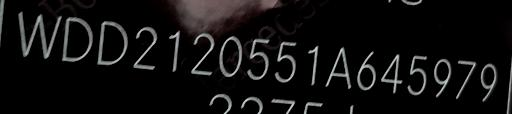letter: (15, 10, 63, 62), (126, 21, 170, 77), (59, 13, 95, 67), (187, 29, 223, 81), (320, 42, 358, 89), (352, 45, 388, 93), (242, 32, 276, 82), (98, 15, 130, 67), (270, 36, 304, 84), (376, 51, 408, 99), (450, 55, 482, 102), (158, 27, 190, 74), (215, 33, 247, 77), (428, 54, 458, 100), (475, 60, 505, 105), (302, 41, 330, 87), (404, 52, 432, 96)
